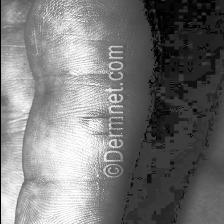Toxin: (56, 34, 105, 206)
